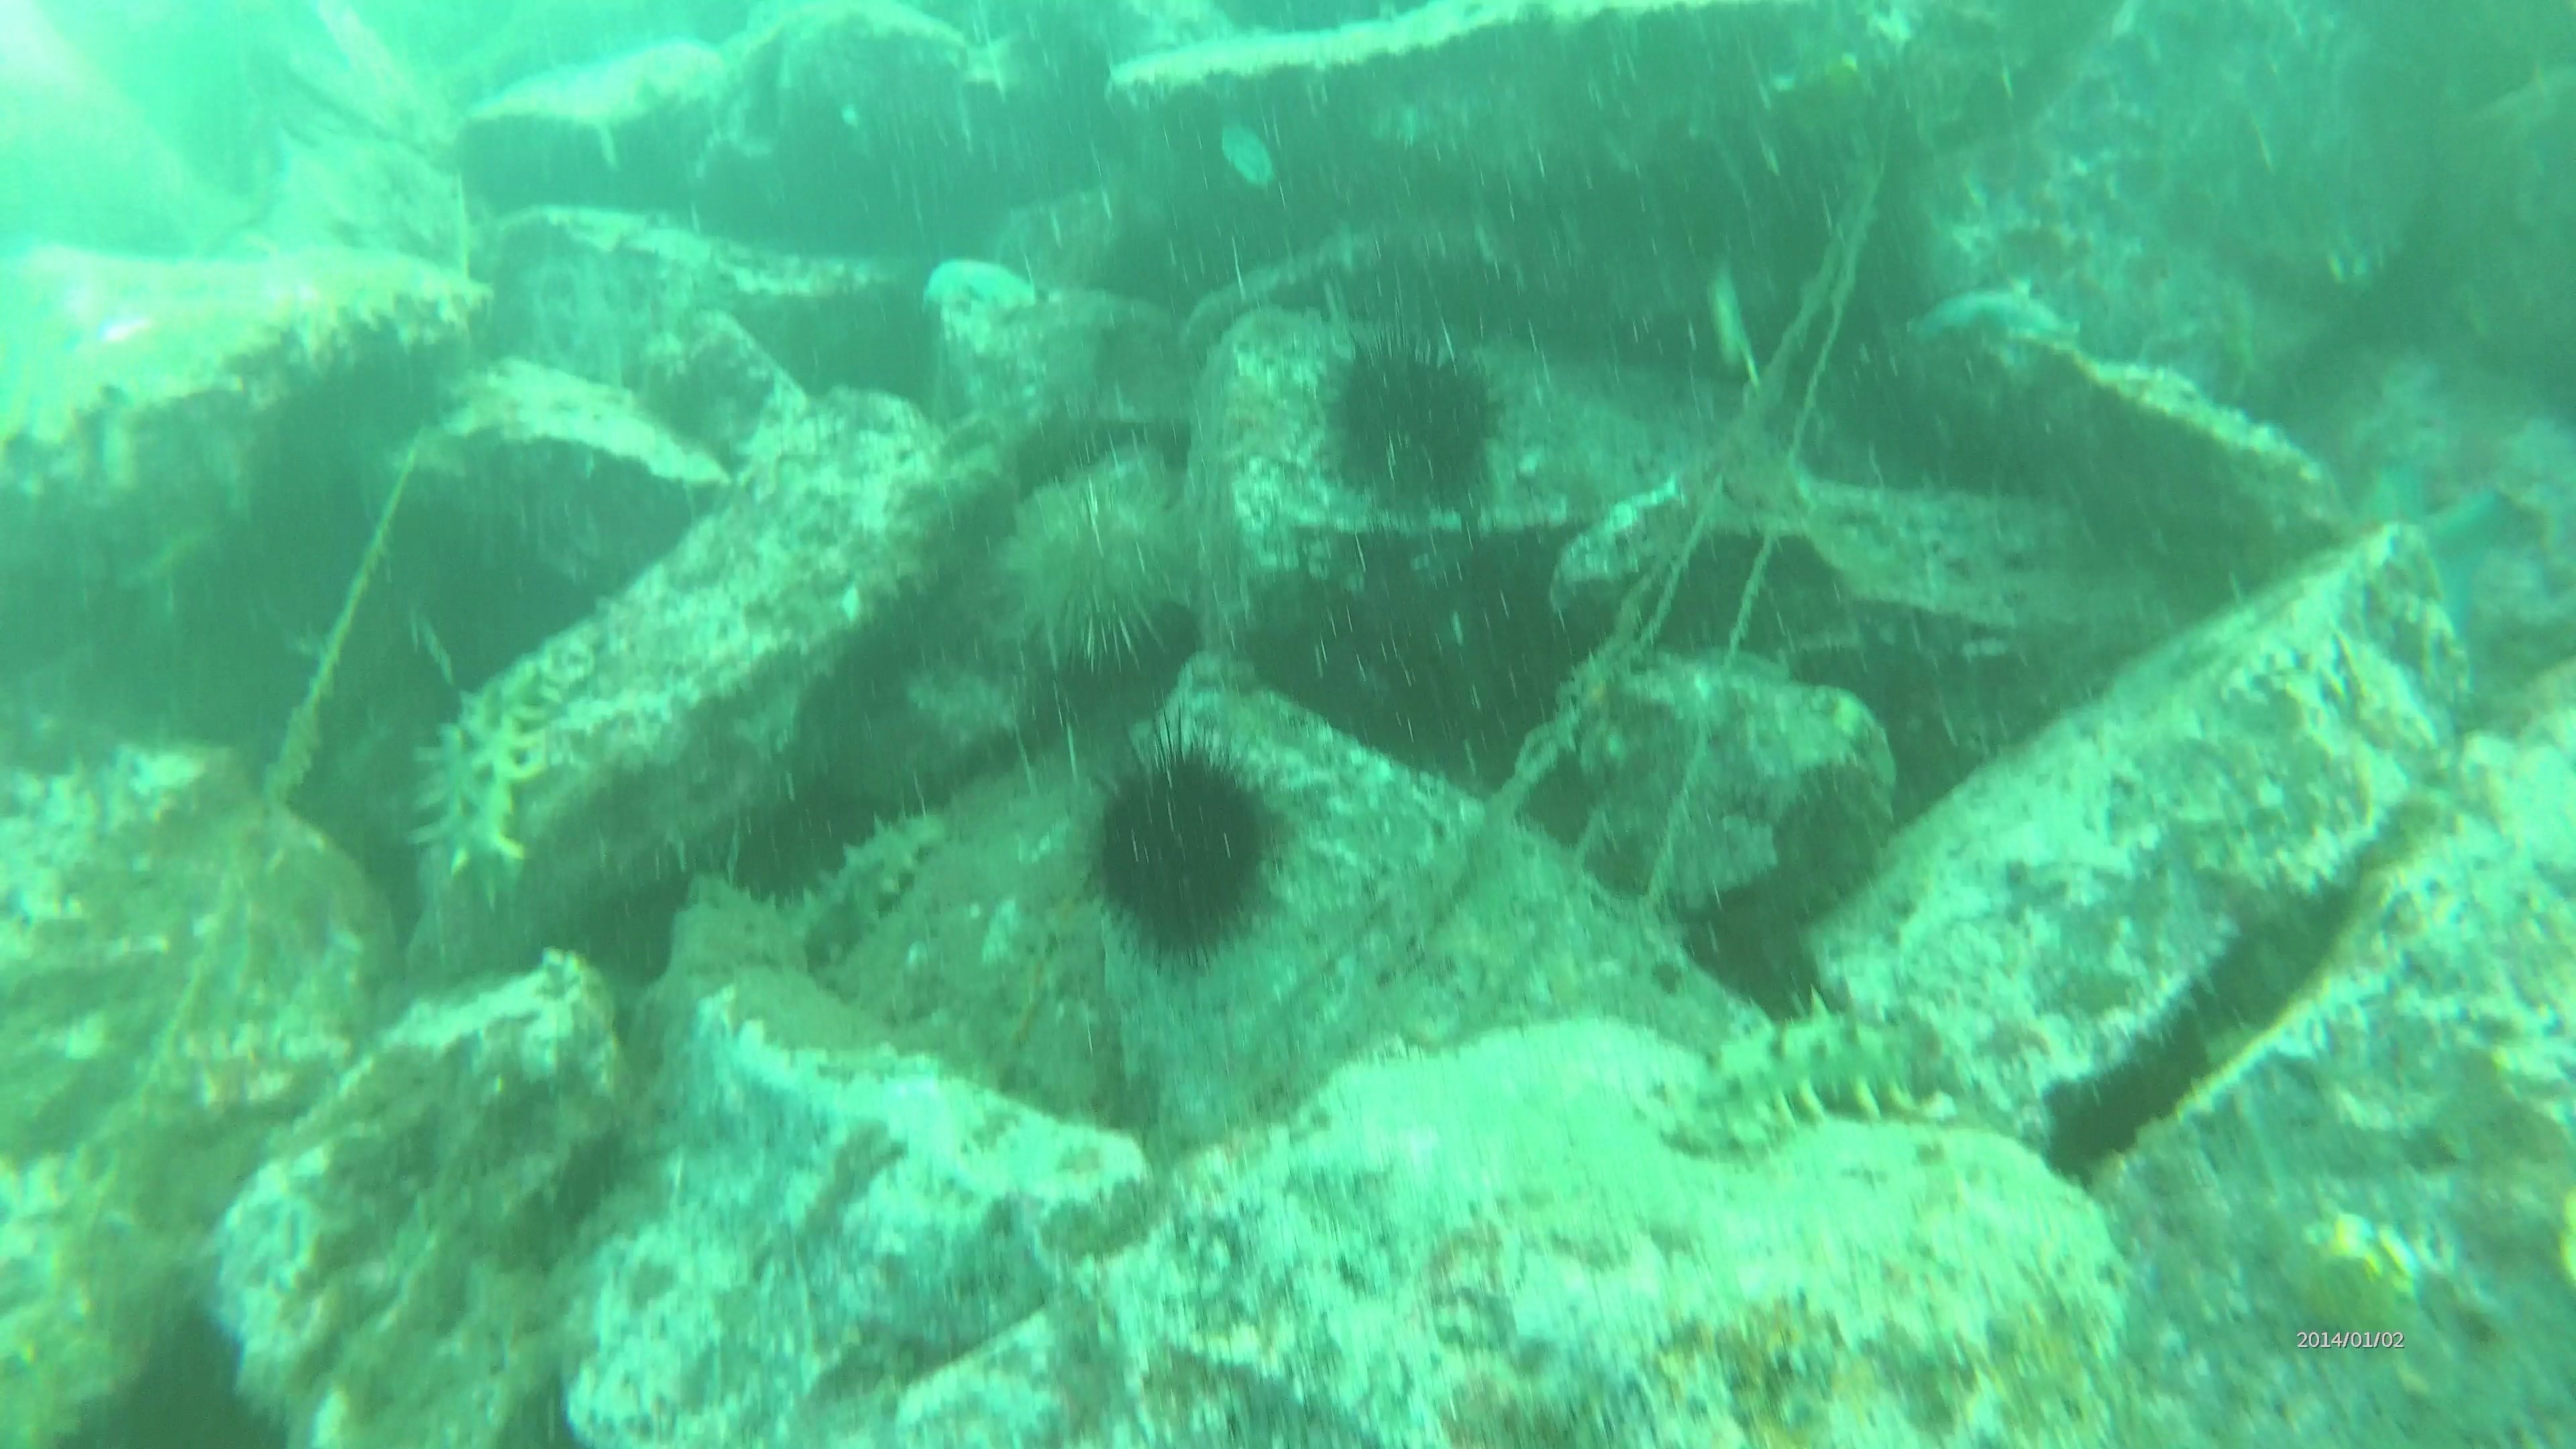echinus: (1072, 725, 1293, 962), (985, 451, 1205, 678), (1311, 327, 1513, 518)
holothurian: (1658, 991, 1950, 1166), (402, 656, 566, 924), (786, 801, 961, 971)
starfish: (1902, 272, 2084, 377)
